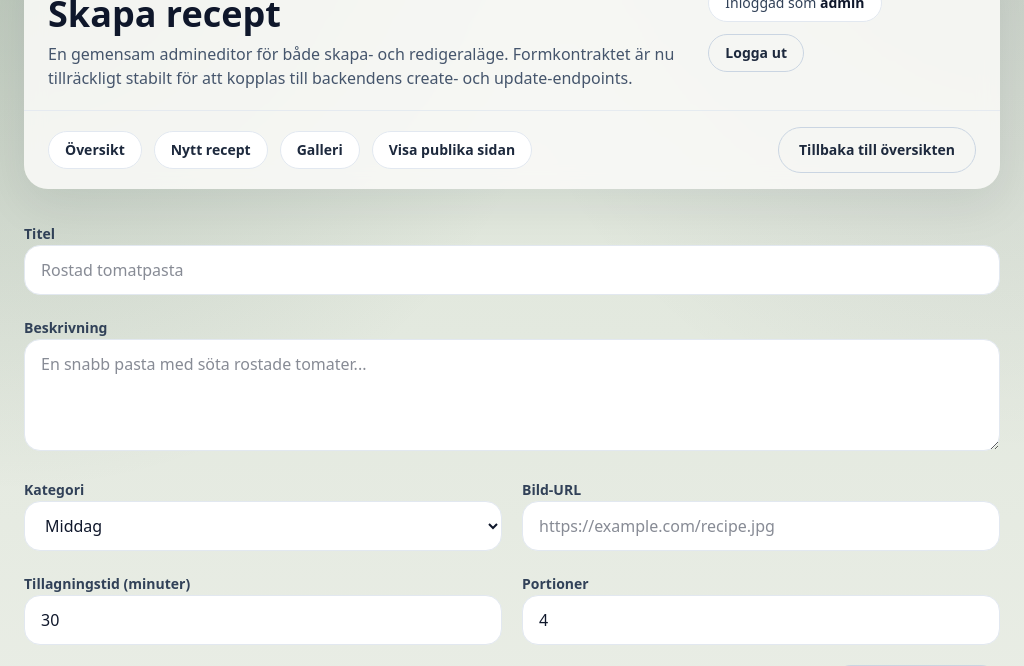
AdminRecipeEditorPage › shows backend validation errors on the matching form fields
In the field labelled "Titel": (512, 270) left=24, top=245, right=1000, bottom=295, type "Crème brûlée"
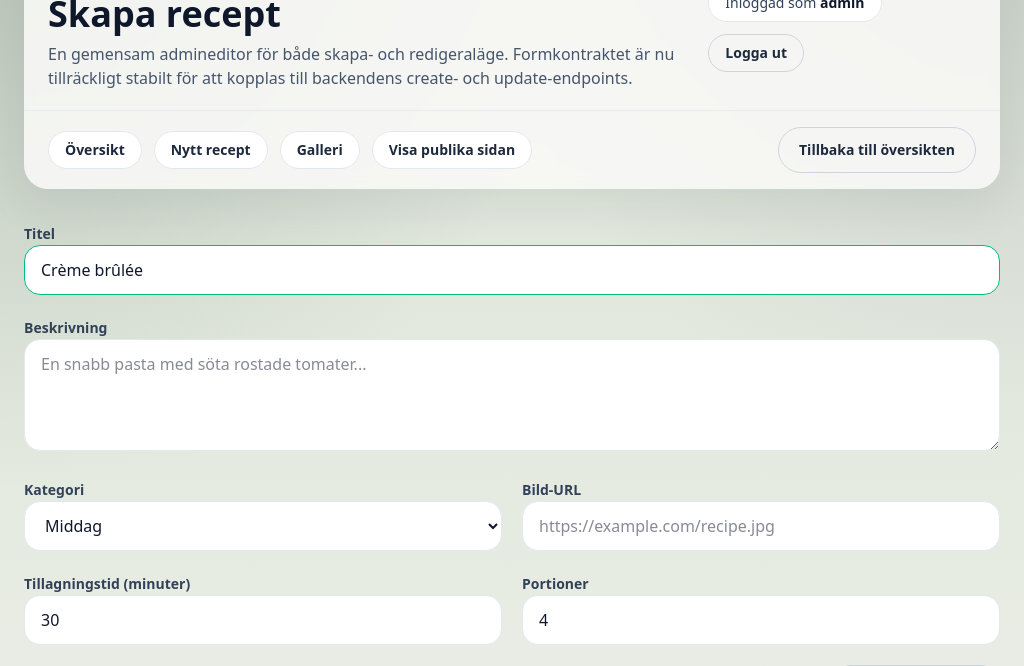
In the text box labelled "Beskrivning": (512, 395) left=24, top=339, right=1000, bottom=451, type "En len dessert med karamelliserat socker."
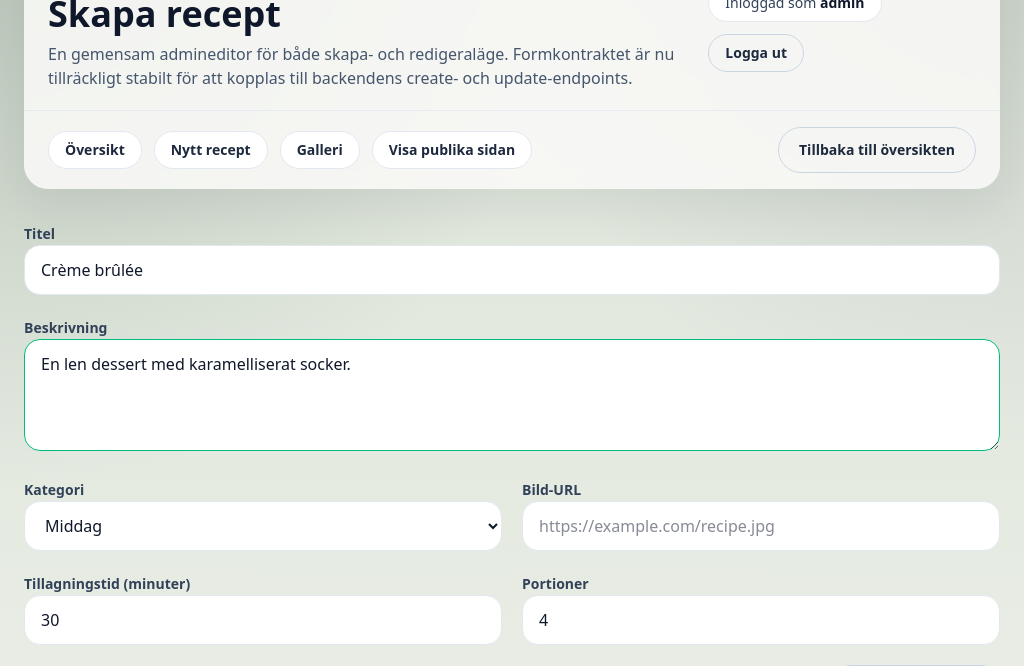
In the field labelled "Bild-URL": (761, 526) left=522, top=501, right=1000, bottom=551, type "https://example.com/creme-brulee.jpg"
(page scrolled)
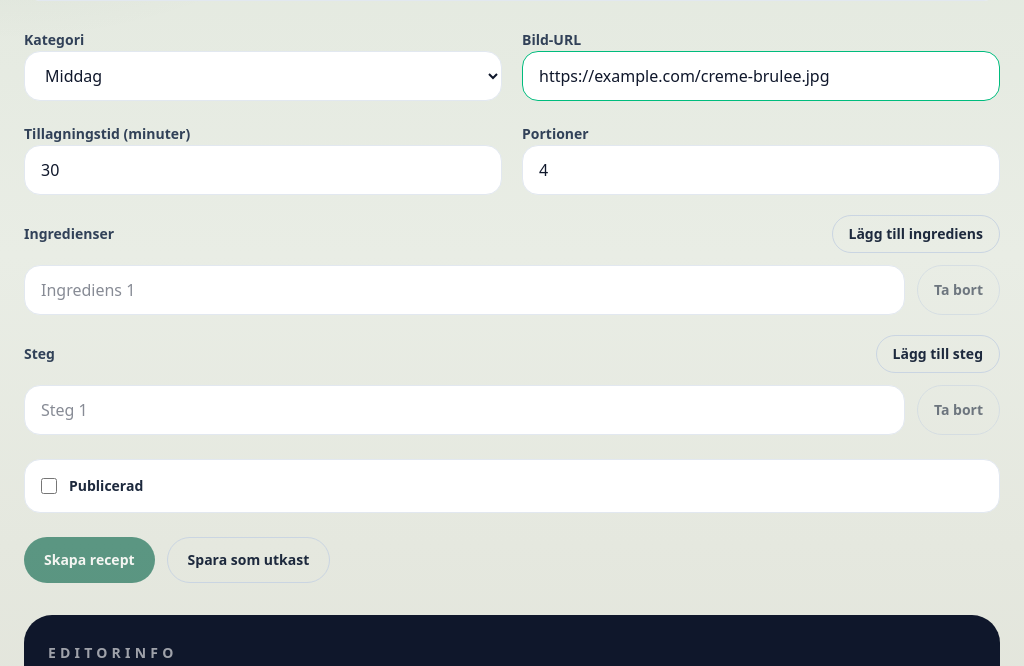
In the field labelled "Ingrediens 1": (464, 290) left=24, top=265, right=905, bottom=315, type "Grädde"
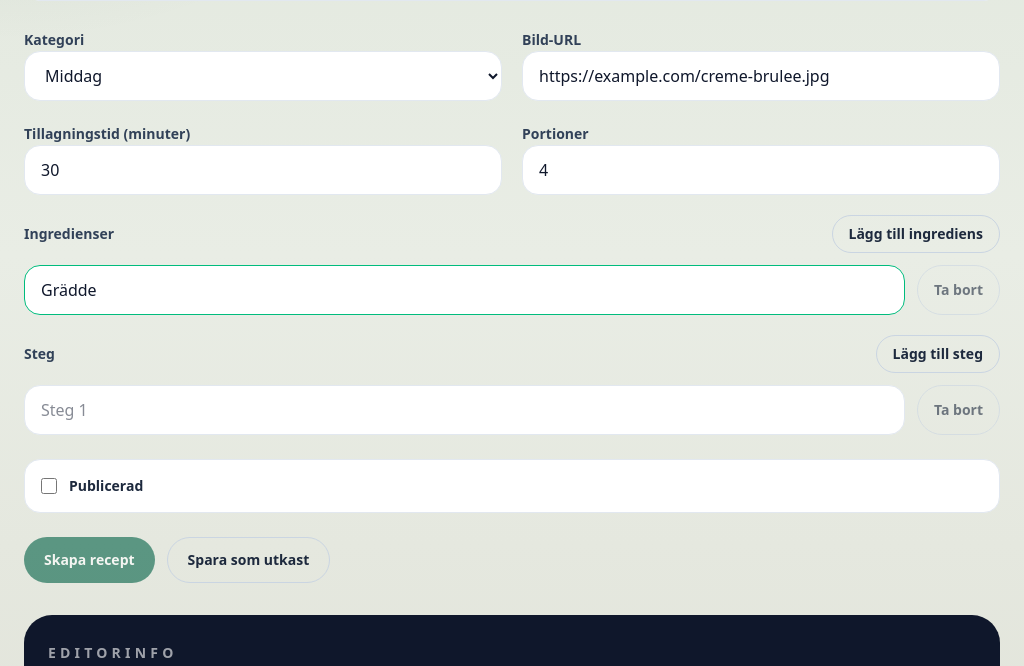
In the field labelled "Steg 1": (464, 410) left=24, top=385, right=905, bottom=435, type "Baka försiktigt."
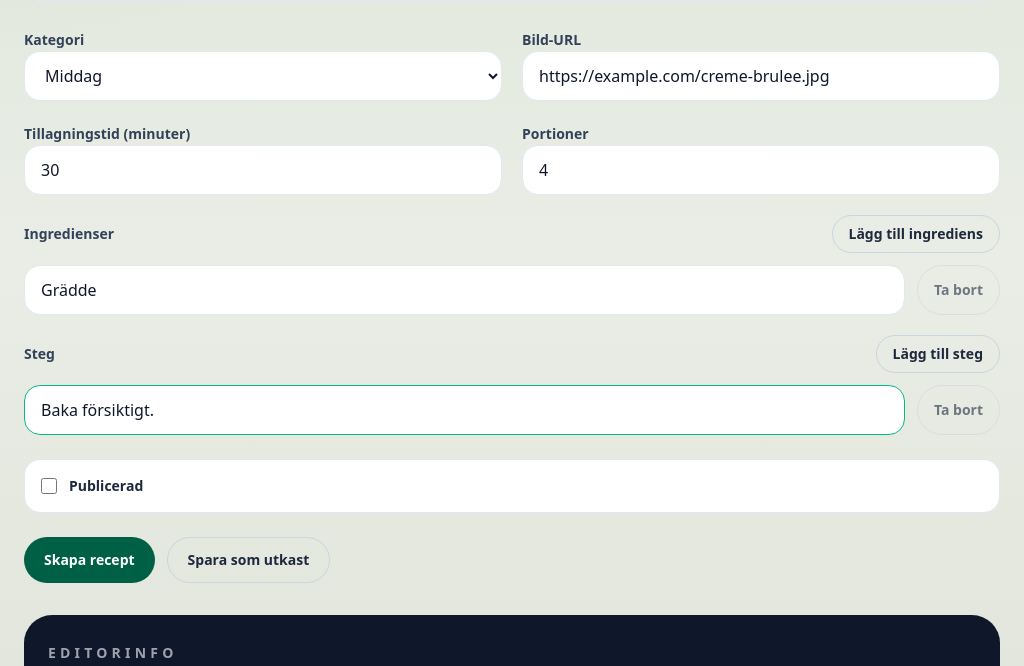
Click the button "Skapa recept": (89, 560) left=24, top=537, right=155, bottom=583
(page scrolled)
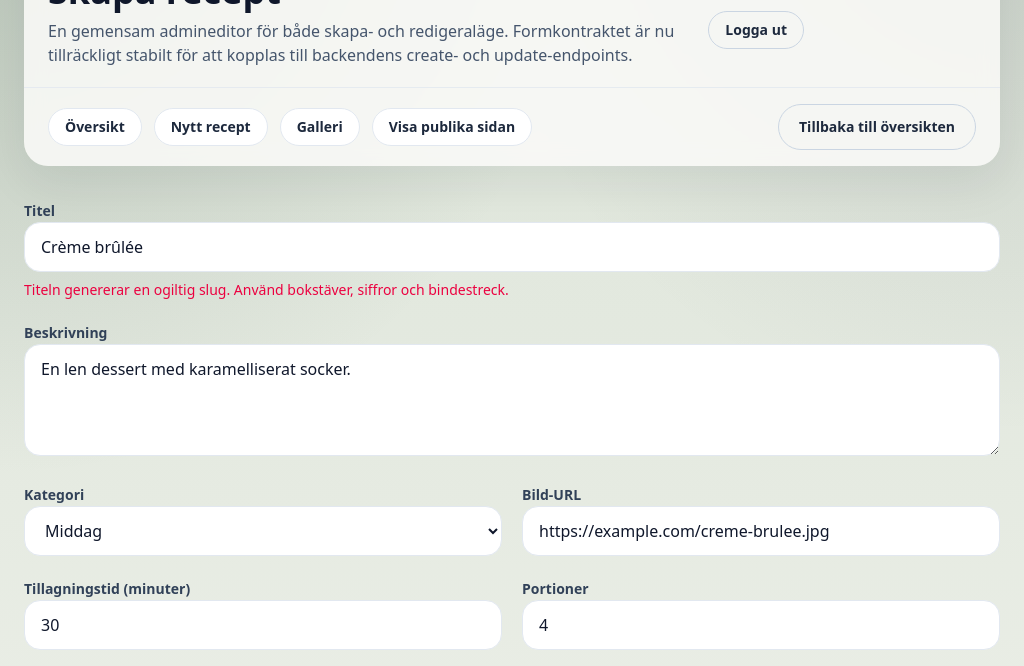
Check: the text "Titeln genererar en ogiltig slug" is shown, box left=24, top=280, right=509, bottom=299
